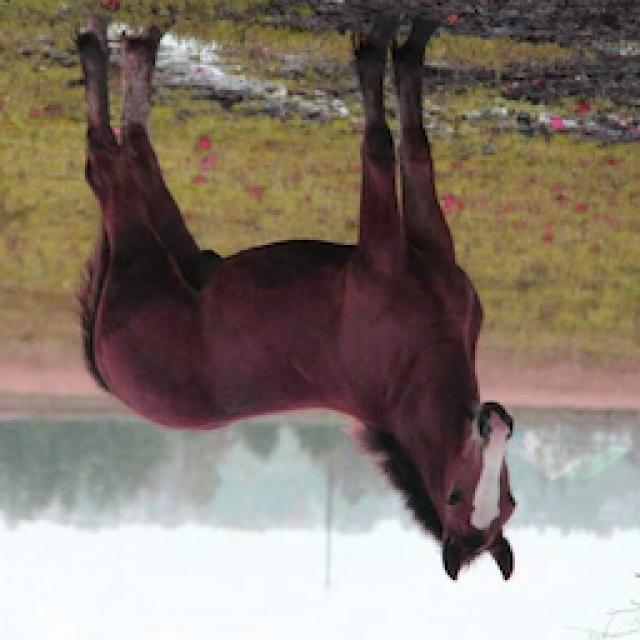Horse: (62, 5, 526, 588)
